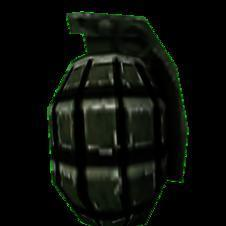Grenade: (47, 12, 188, 225)
